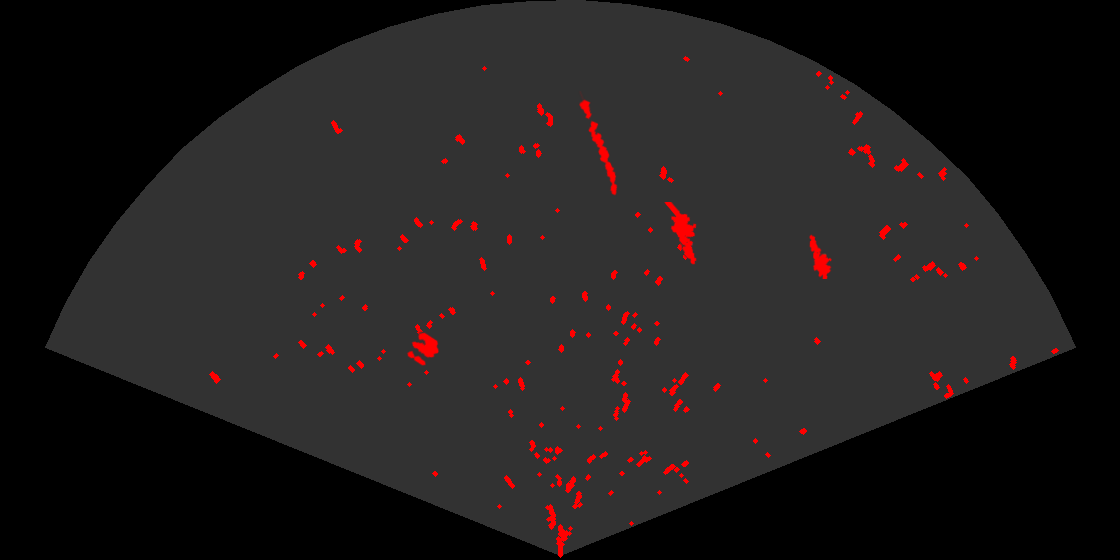ball: (405, 331, 440, 367)
chain: (578, 91, 619, 197)
frogman: (663, 202, 698, 266), (808, 234, 833, 279)
